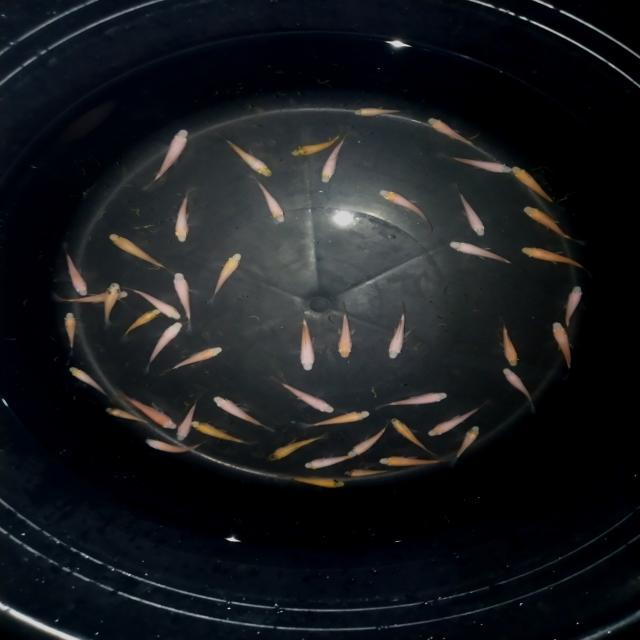nila: (518, 244, 602, 282), (106, 232, 176, 274), (374, 190, 436, 234), (208, 395, 274, 434), (270, 380, 340, 415), (120, 393, 180, 433), (522, 202, 577, 245), (223, 138, 279, 180), (144, 316, 186, 371), (378, 384, 450, 416), (424, 403, 486, 438), (426, 114, 486, 150), (510, 162, 560, 205), (164, 346, 231, 378), (152, 129, 192, 182), (386, 416, 438, 456), (266, 434, 328, 467), (343, 422, 393, 462), (446, 238, 512, 268), (502, 366, 540, 418), (130, 285, 184, 321), (549, 318, 578, 383), (321, 131, 353, 187), (190, 416, 249, 446), (302, 408, 374, 432), (250, 180, 290, 223), (210, 251, 243, 303), (450, 194, 490, 236), (290, 131, 346, 161), (58, 241, 88, 296), (66, 363, 112, 398), (444, 155, 520, 176), (386, 302, 412, 363), (296, 308, 319, 374), (450, 424, 487, 465), (276, 472, 350, 492), (120, 308, 163, 342), (173, 270, 196, 332), (174, 394, 202, 443), (497, 322, 525, 370), (58, 288, 132, 306), (560, 286, 588, 332), (302, 452, 365, 472), (174, 190, 196, 246), (139, 438, 207, 456), (372, 454, 447, 470), (104, 402, 148, 426), (102, 280, 123, 328), (337, 308, 355, 362), (60, 311, 80, 358), (348, 104, 409, 116), (344, 466, 396, 479)
